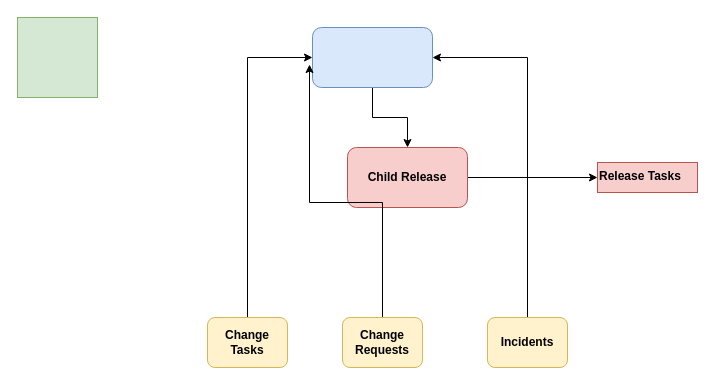
Some shapes in this 715 by 385 pixel diagram are drawn without their labels. Each missing label, with the centre of its shape:
Parent Release: the point at 372,57
Task Table: the point at 57,57
